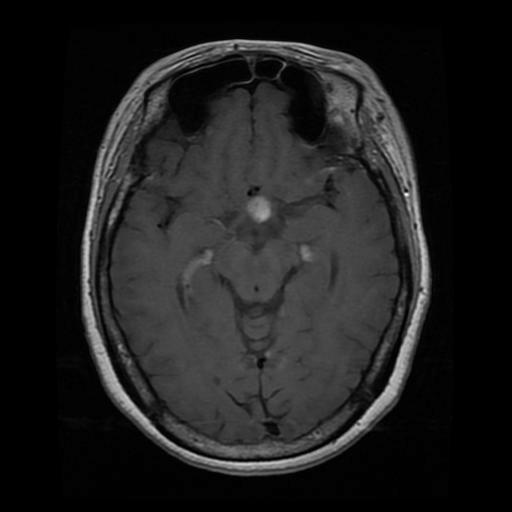Tumour-Pituitary: (246, 193, 272, 226)
